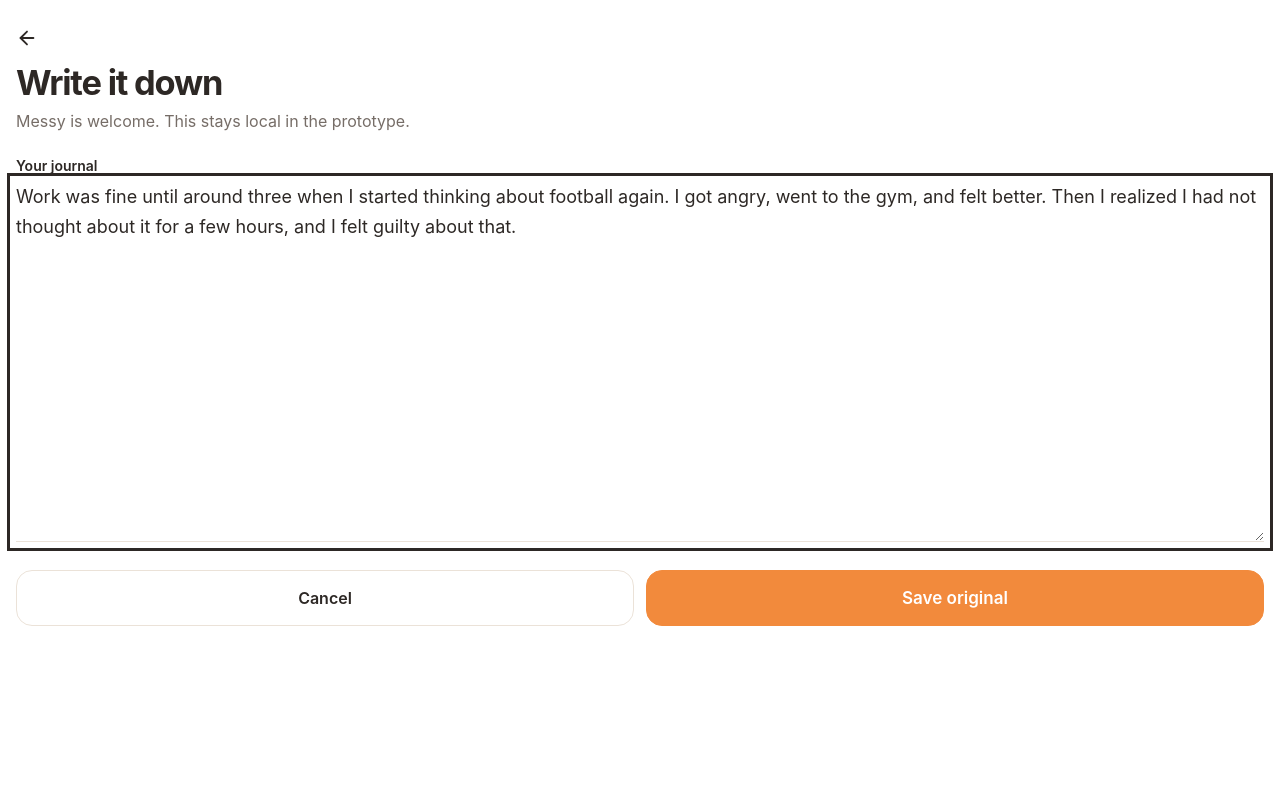
Test: text journal › preserves the exact original and offers a separate rewrite
Click the button "Save original" at (955,598), box [646,570,1264,626]
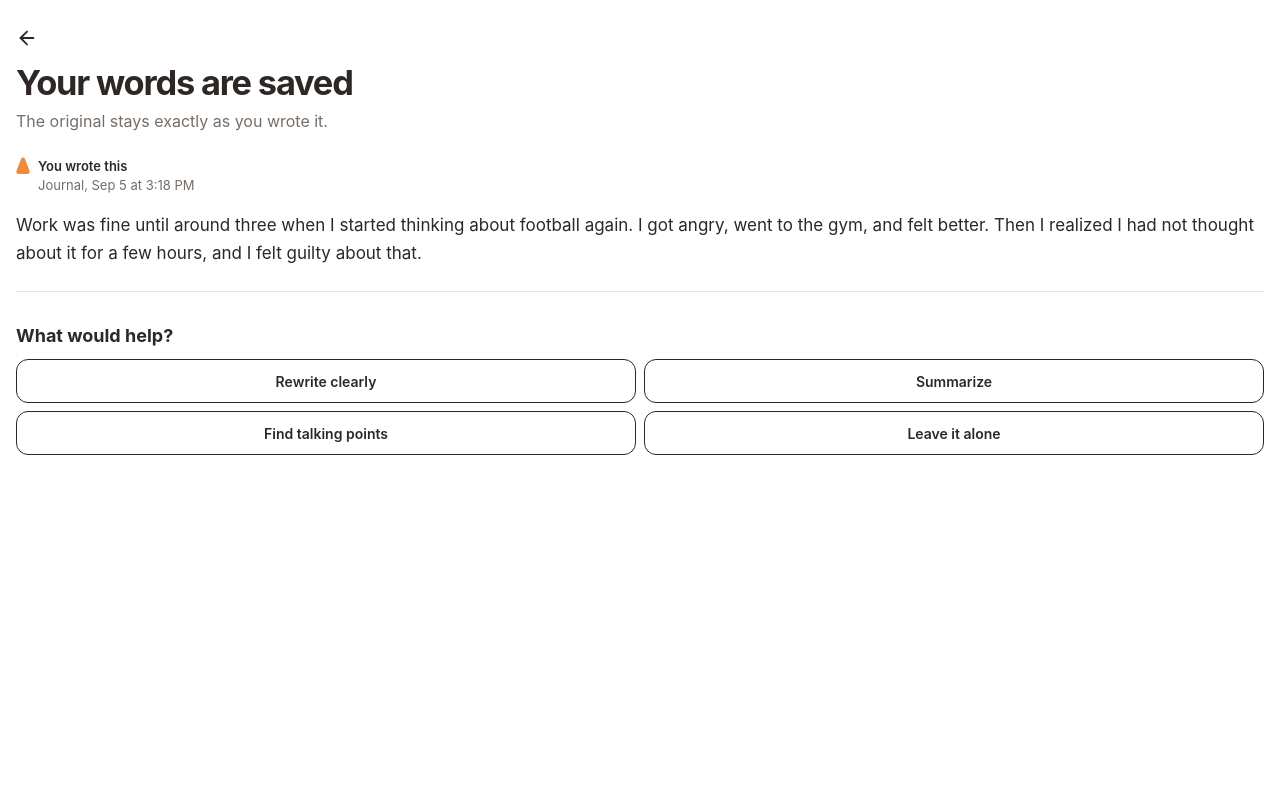
Now the heading "Your words are saved" is shown, box [16,62,353,103]
Now the text "Work was fine until around three when I started thinking about football again. I got angry, went to the gym, and felt be" is shown, box [16,214,1254,262]
Click the button "Rewrite clearly" at (326,381), box [16,359,636,403]
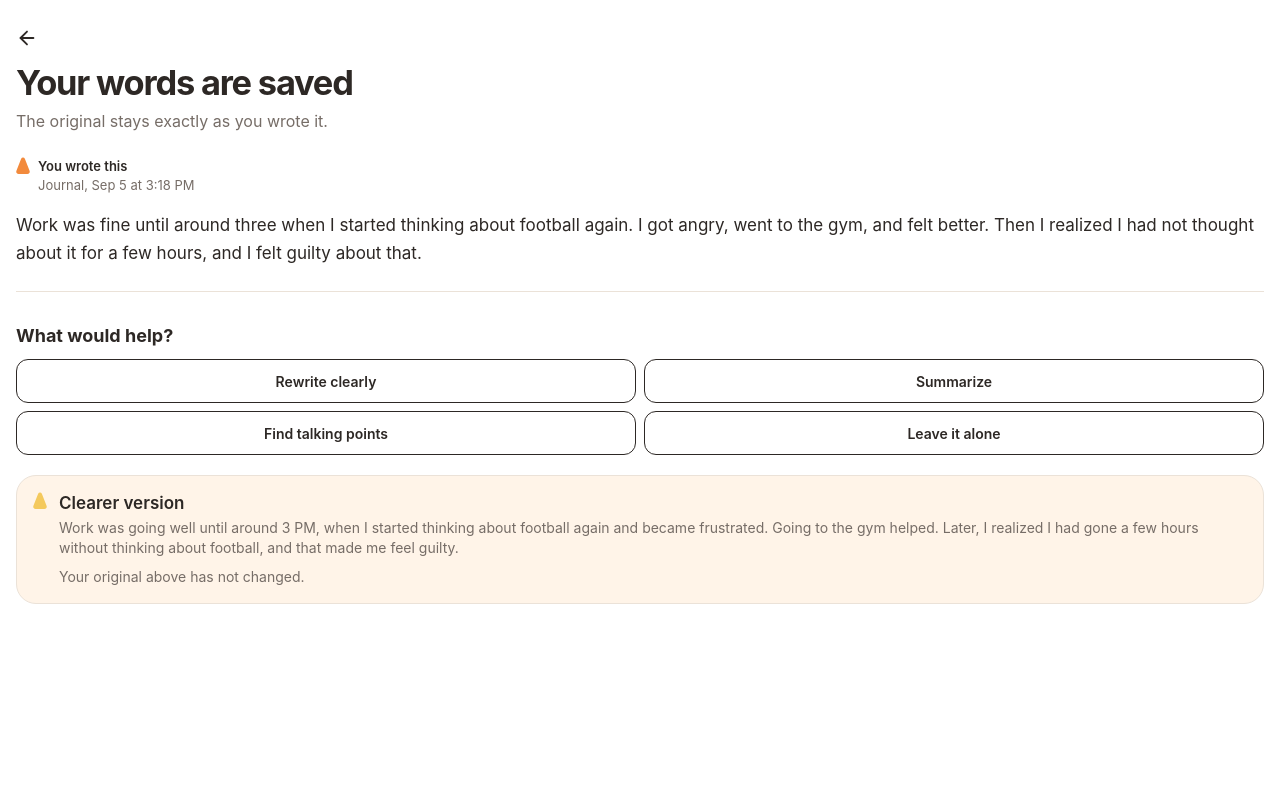
Now the text "Work was fine until around three when I started thinking about football again. I got angry, went to the gym, and felt be" is shown, box [16,214,1254,262]
Now the heading "Clearer version" is shown, box [59,493,184,513]
